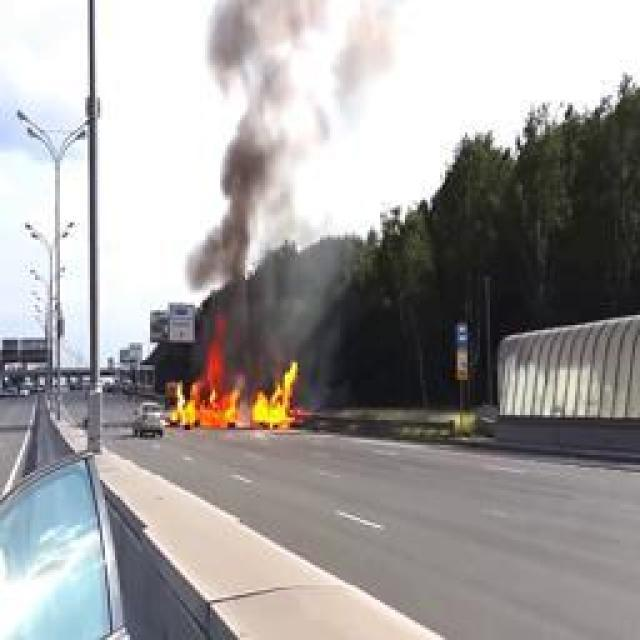Fire: (169, 316, 299, 429)
